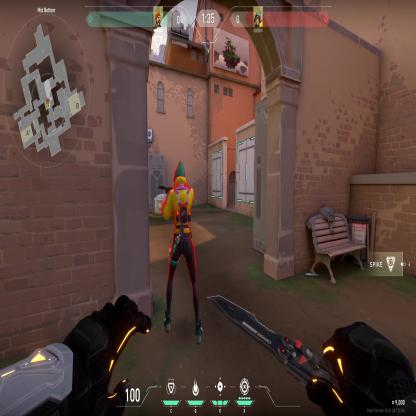enemy: (161, 156, 203, 348)
